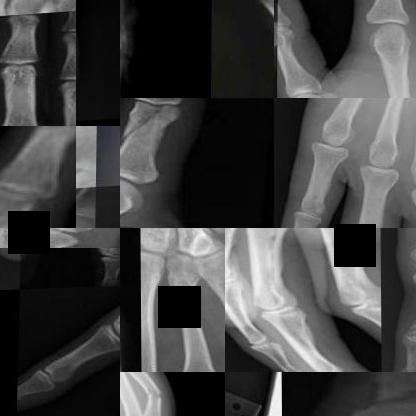fracture: (129, 98, 186, 149), (358, 372, 415, 415), (251, 228, 289, 284), (140, 378, 167, 408), (46, 0, 76, 18)
